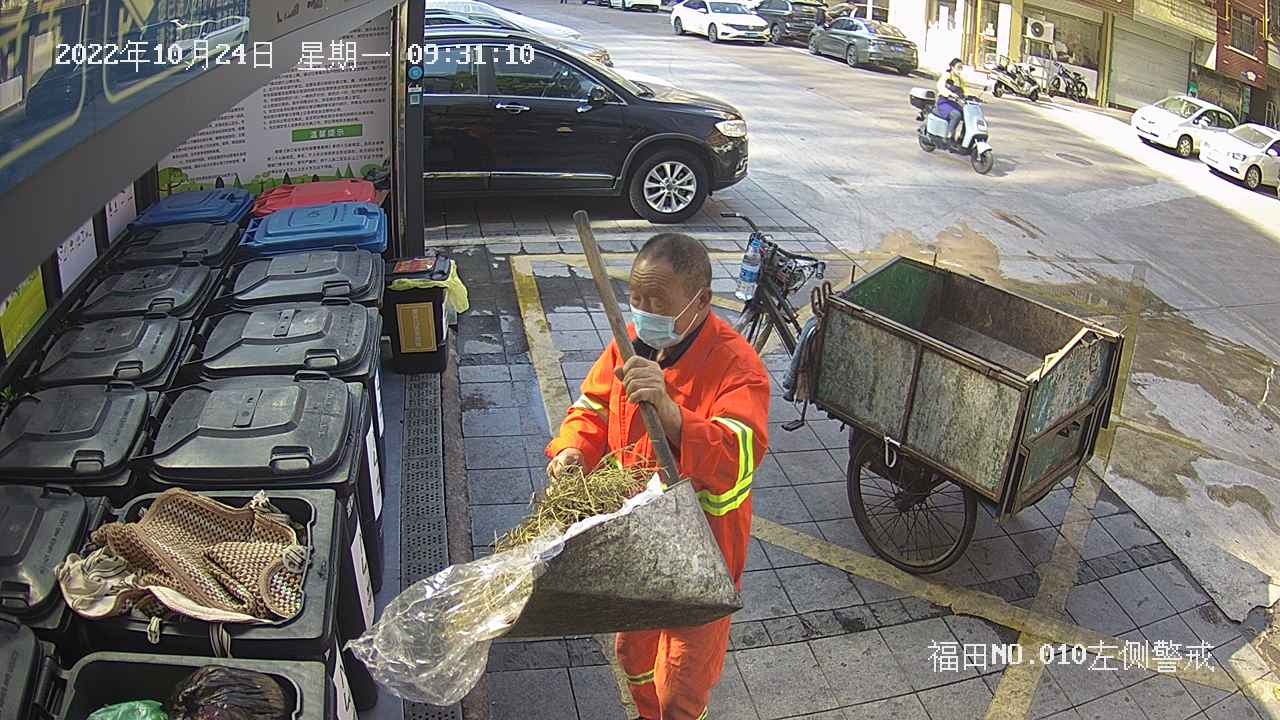worker: (547, 229, 780, 720)
